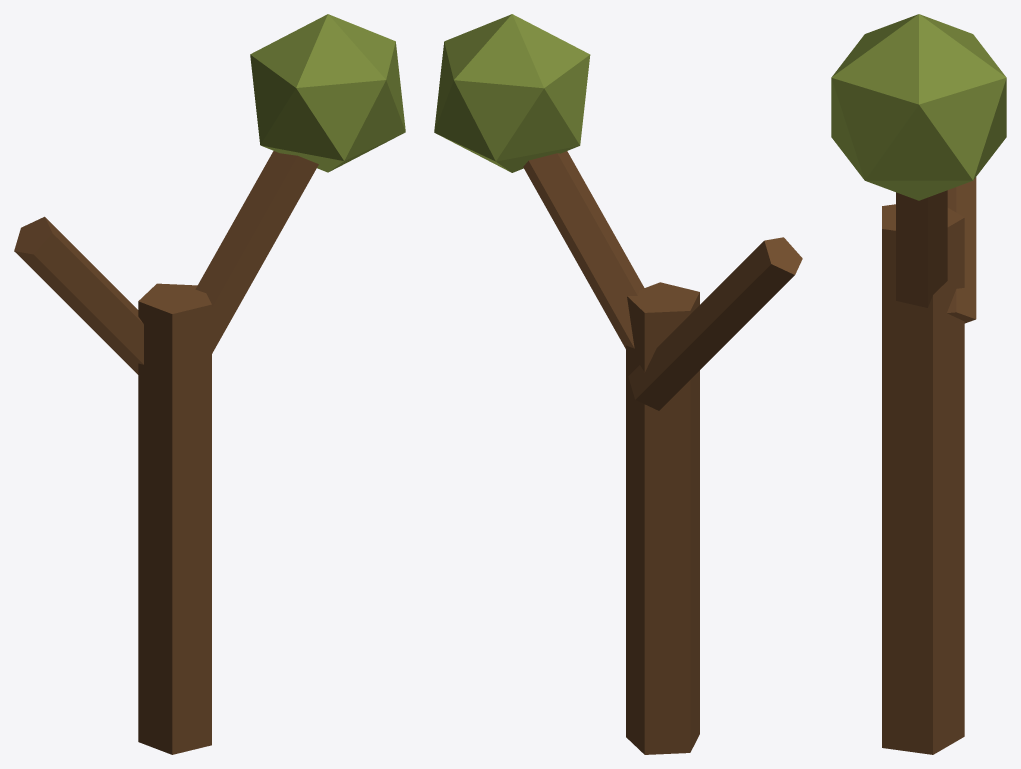
Rendered from tree_dry.glb.
The picture shows the model from 3 angles, left to right: view 1: azimuth 30°, elevation 25°; view 2: azimuth 150°, elevation 25°; view 3: azimuth 270°, elevation 25°; orthographic projection. The views are drawn at different scales.
Parts seen in each view (by area): view 1: tree_dry; view 2: tree_dry; view 3: tree_dry.
Boxes of the visible parts, x1,y1,x2,y2 form: tree_dry: (14,14,405,754); tree_dry: (434,14,802,754); tree_dry: (831,14,1006,754).
Bounding box in the file's own units: 0.8684 × 1.56 × 0.3062.
Materials: 1 (1 with a texture image).
